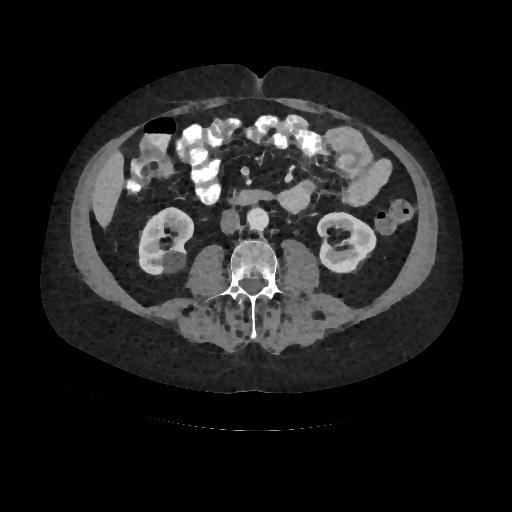Lesion: (158, 250, 190, 276)
